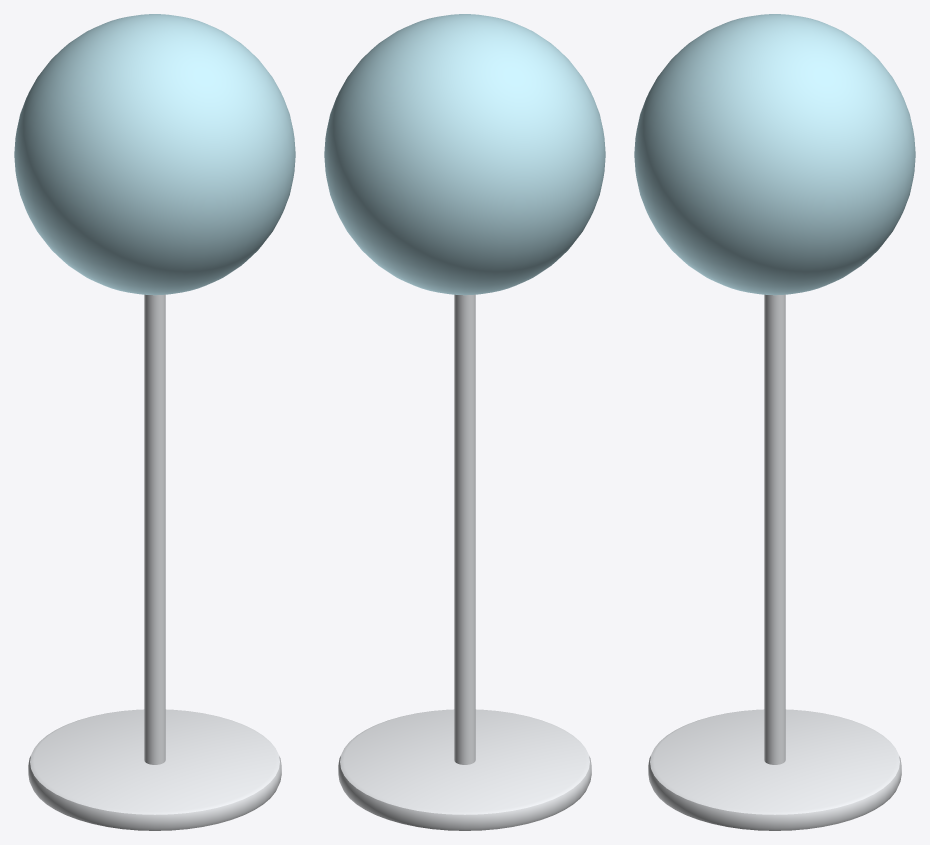
The model's file is aero_orb.glb.
The picture shows the model from 3 angles, left to right: view 1: azimuth 30°, elevation 25°; view 2: azimuth 150°, elevation 25°; view 3: azimuth 270°, elevation 25°; orthographic projection.
Parts seen in each view (by area): view 1: aero_orb; view 2: aero_orb; view 3: aero_orb.
Boxes of the visible parts, x1,y1,x2,y2 form: aero_orb: (14, 14, 295, 830); aero_orb: (324, 14, 605, 830); aero_orb: (634, 14, 915, 830).
Bounding box in the file's own units: 0.4 × 1.18 × 0.4.
